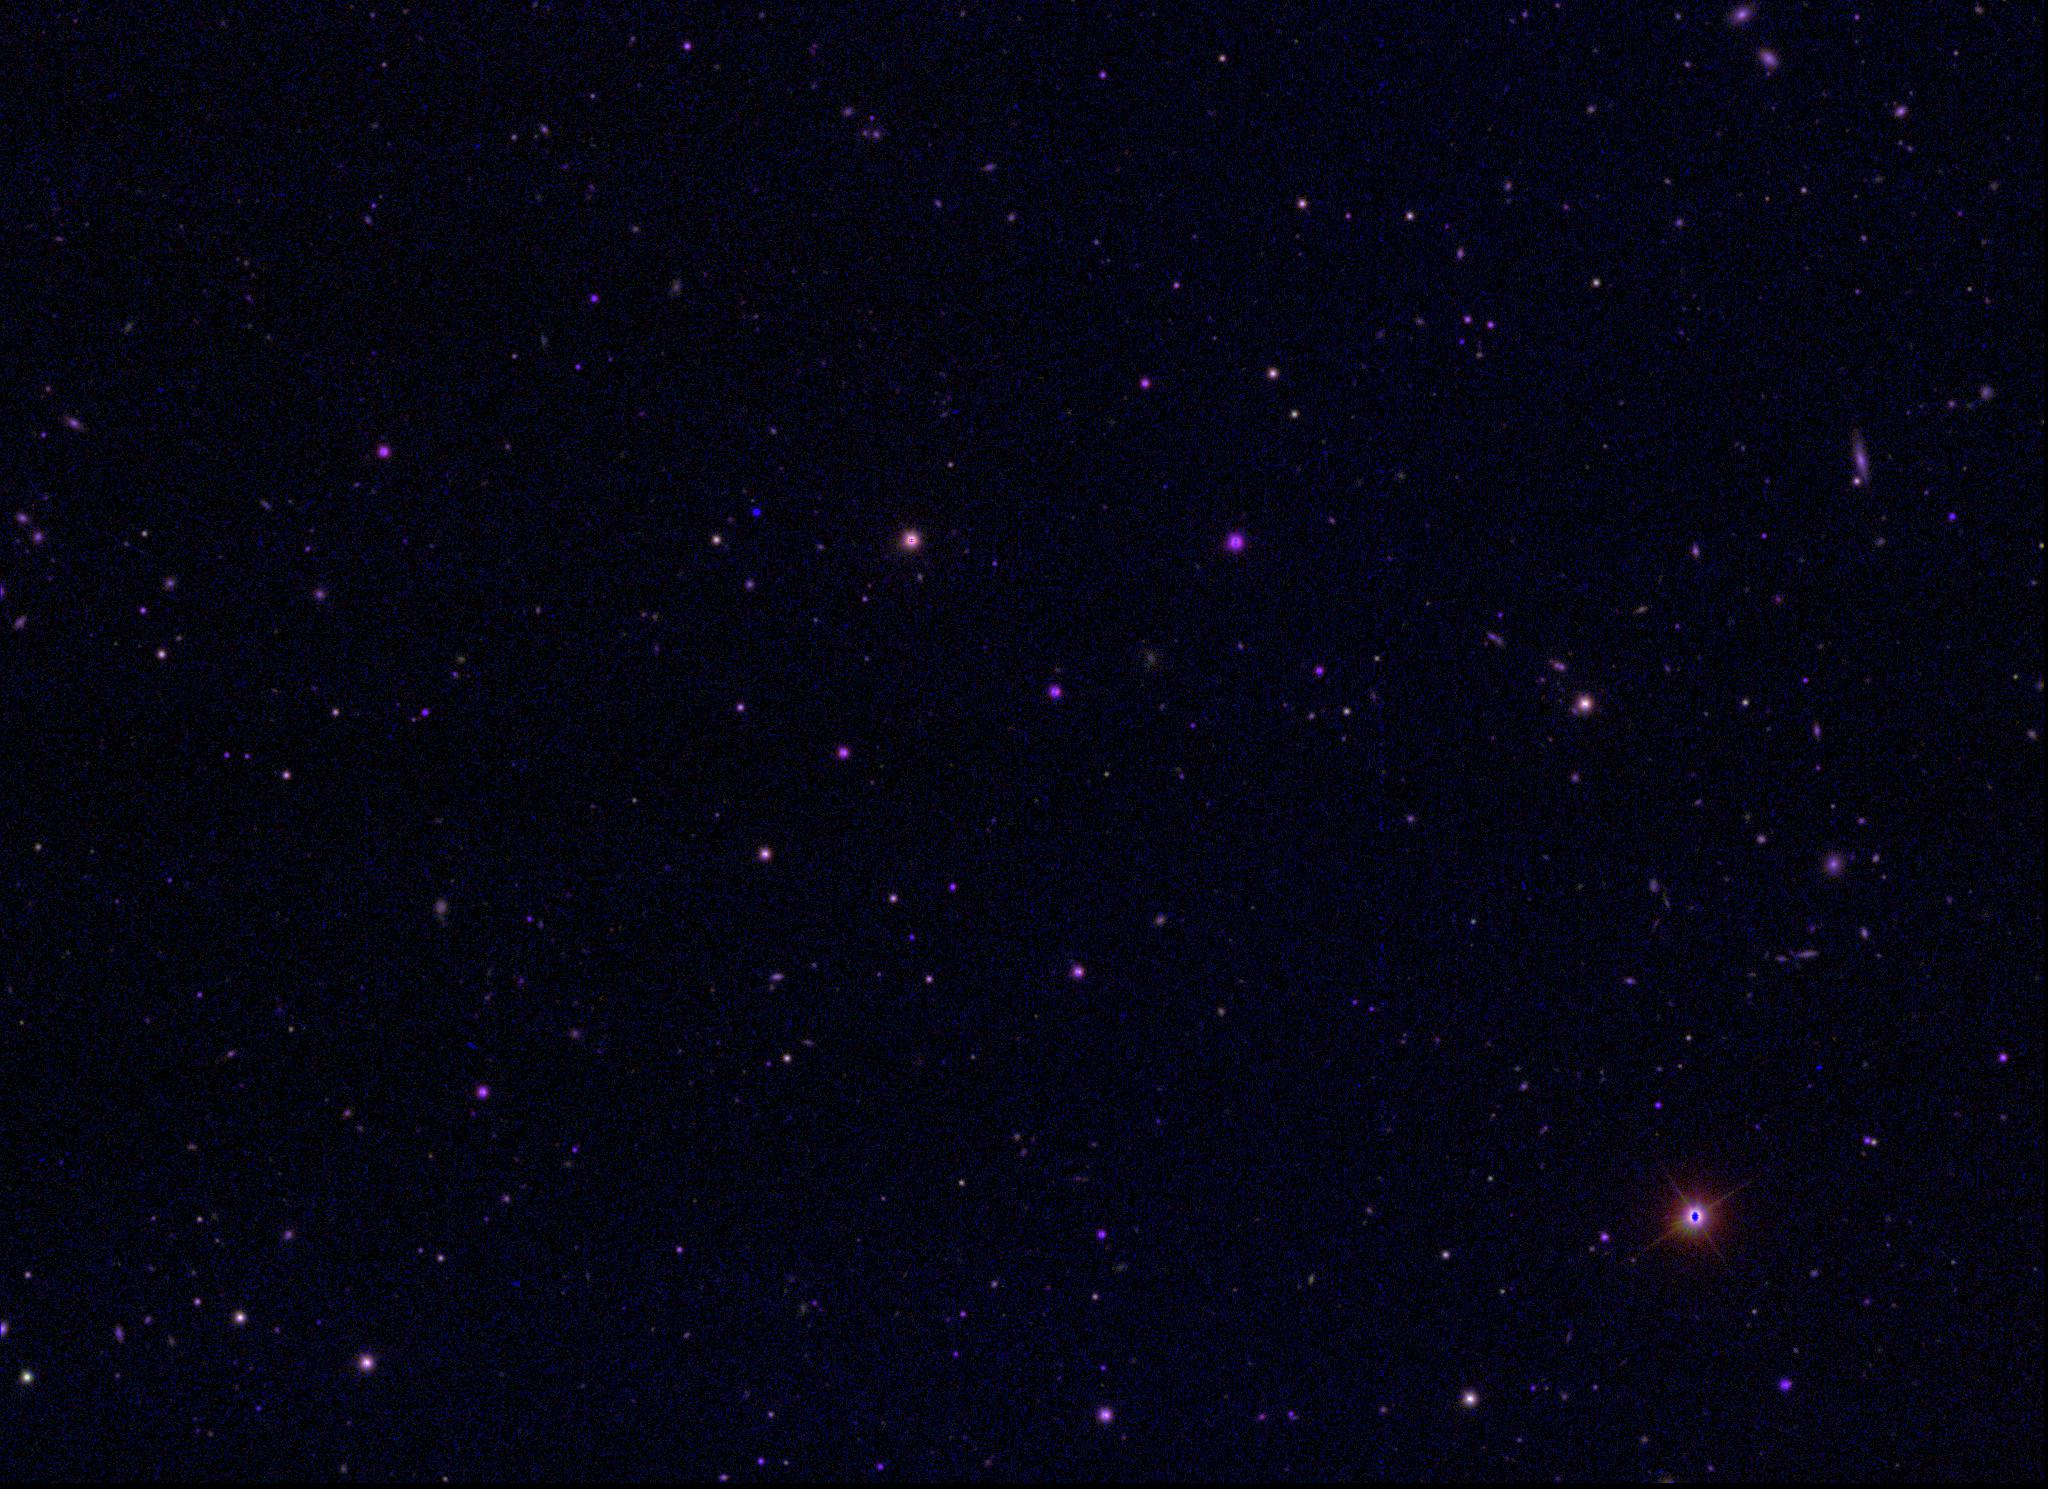L: (747, 509, 762, 523)
